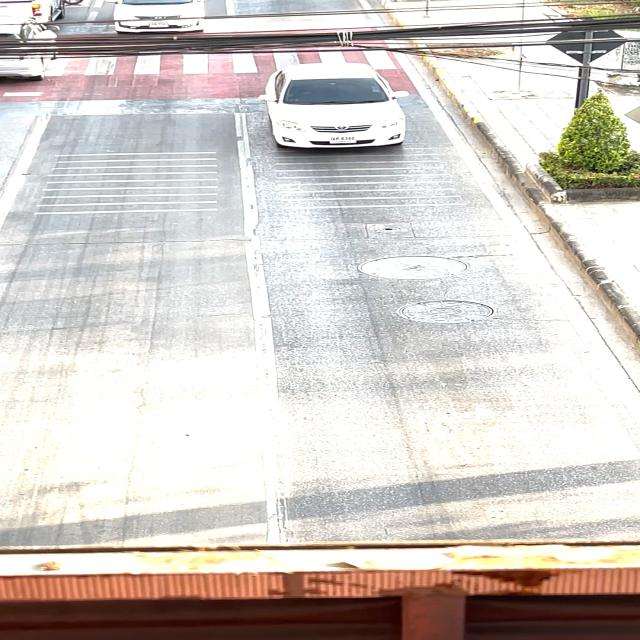car: (232, 57, 435, 158), (245, 61, 436, 149), (104, 0, 236, 55)
